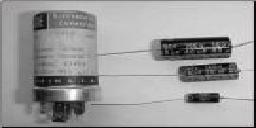Electrolytic Capacitor: (26, 6, 100, 128), (110, 26, 252, 57), (110, 61, 256, 84), (113, 91, 256, 113)
